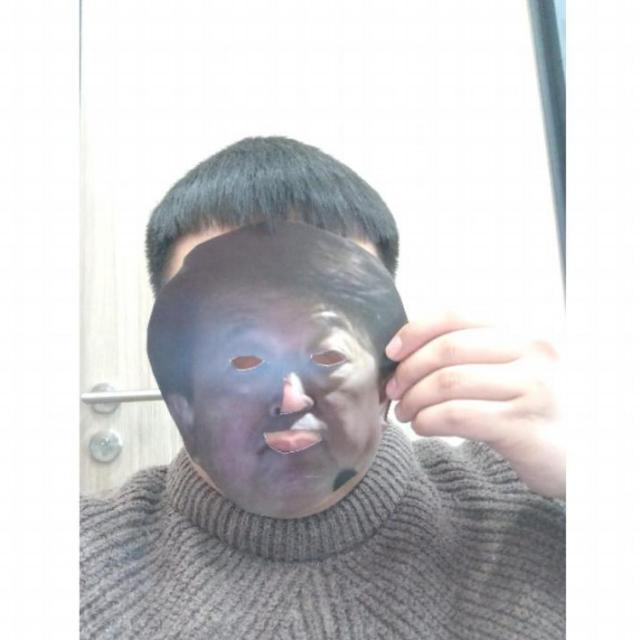mask: (145, 217, 422, 511)
